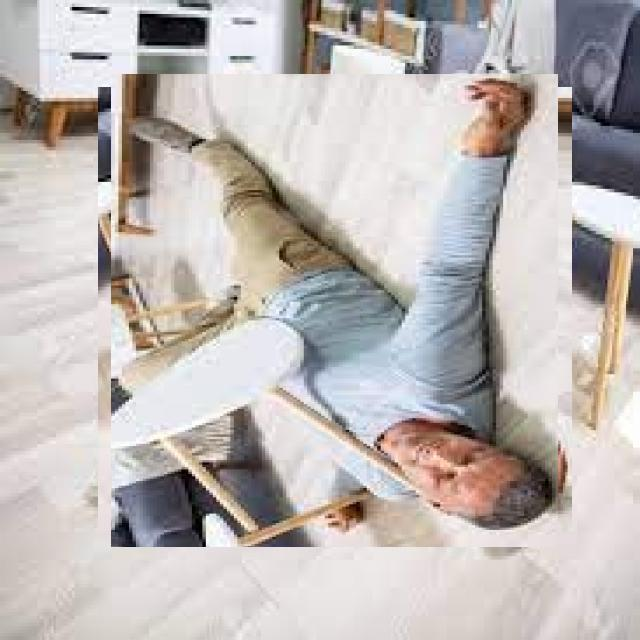Fall: (120, 78, 573, 547)
